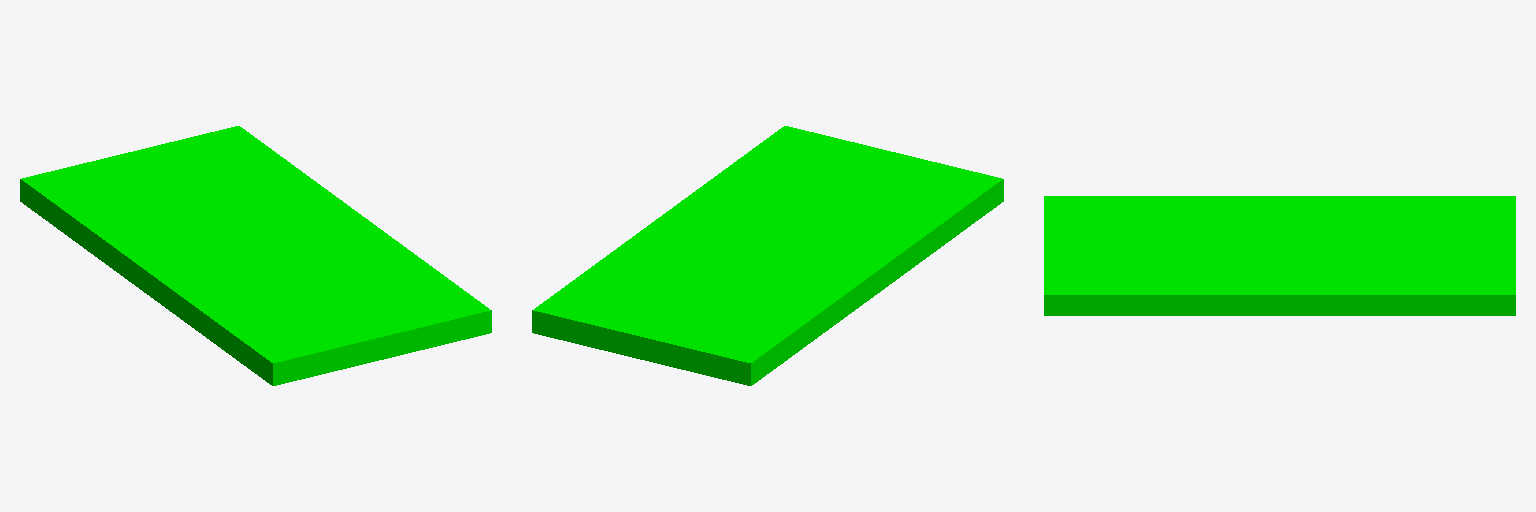
The robot description file, URDF, robot "leaf":
<?xml version="1.0" ?>

<robot name="leaf">
  <link name="leaf">
    <visual>
      <origin xyz="0 0 0" rpy="0 0 0" />
      <geometry> <box size="0.05 0.1 0.005"/> </geometry>
      <material name=""> <color rgba="0.0 1.0 0.0 1.0" /> </material>
    </visual>
    <collision>
      <origin xyz="0 0 0" rpy="0 0 0" />
      <geometry> <box size="0.05 0.1 0.005"/> </geometry>
    </collision>
    <inertial>
      <origin xyz="0 0 0" rpy="0 0 0" />
      <mass value="0.001" />
      <inertia ixx="0.0001" ixy="0" ixz="0" iyy="0.0001" iyz="0" izz="0.0001" />
    </inertial>
  </link>

<gazebo reference="leaf"> <material>Gazebo/Grass</material> </gazebo>

</robot>

--- What the picture shows (computed from the rendered views, not written in the file) ---
3 views of the same robot in one strip: view 1: azimuth 30°, elevation 25°; view 2: azimuth 150°, elevation 25°; view 3: azimuth 270°, elevation 25° (orthographic).
Model leaf with 1 links and 0 joints (none), rooted at leaf, posed all joints at 0.
Visible links, largest first — view 1: leaf; view 2: leaf; view 3: leaf.
Boxes of the visible links, <box> form: leaf: <box>20,126,491,385</box>; leaf: <box>532,126,1003,385</box>; leaf: <box>1044,196,1515,315</box>.
Size in the robot's own frame: 0.05 by 0.1 by 0.005 metres.
Geometry: primitives only (box / cylinder / sphere), no mesh files.
